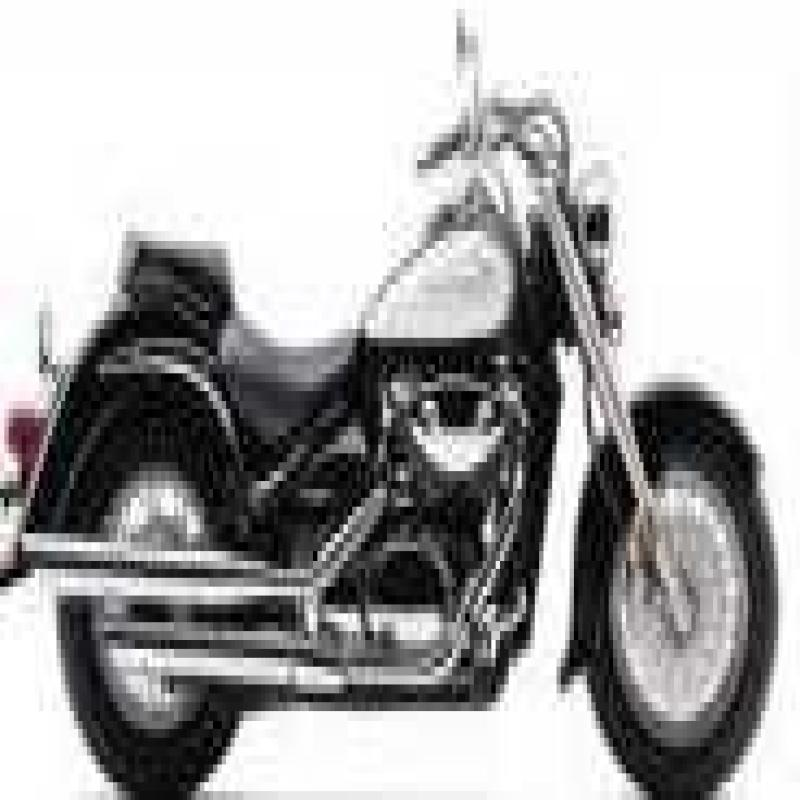bike: (18, 31, 800, 785)
